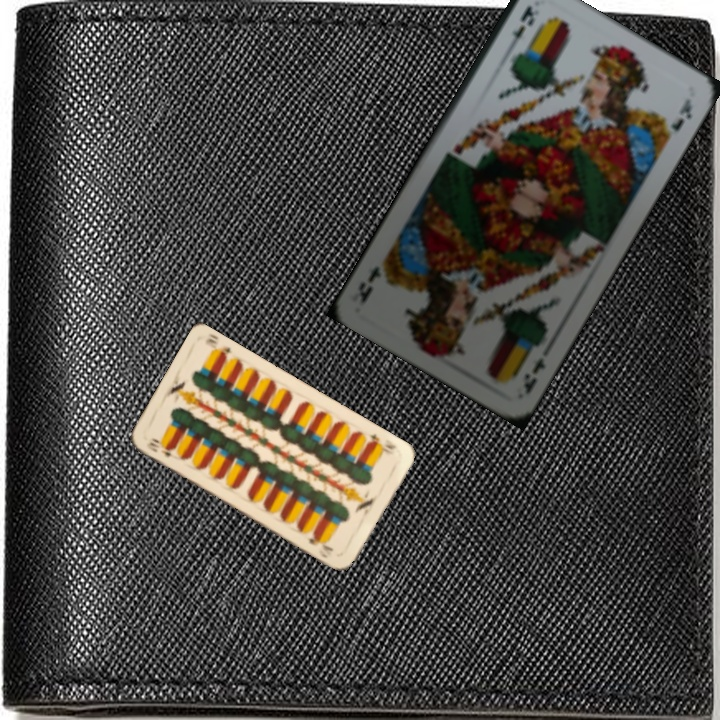E10: (364, 429, 399, 452), (143, 438, 173, 460)
EK: (503, 1, 542, 56), (519, 353, 548, 397)
